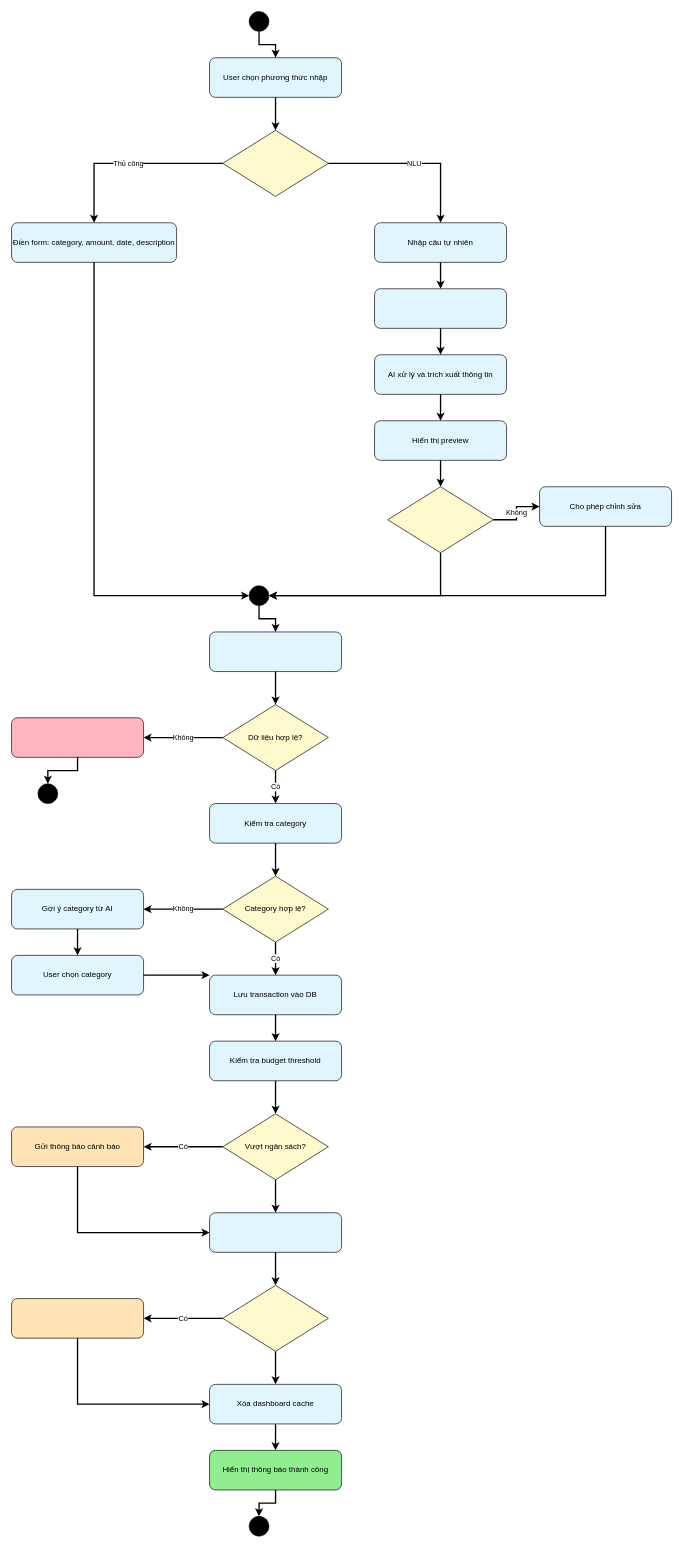
Image size: 683x1548. Some labels were removed from this diagram. The shapes that lost their labels are listed below. From the top down, each one's centre as x and y in pixels, then its label:
At pixel 275 163: "Phương thức?".
At pixel 440 308: "Gửi đến AI Service".
At pixel 440 519: "User xác nhận?".
At pixel 275 651: "Validate dữ liệu".
At pixel 77 737: "Hiển thị lỗi".
At pixel 275 1232: "Kiểm tra giao dịch lớn".
At pixel 77 1318: "Gửi thông báo giao dịch lớn".
At pixel 275 1318: "Amount > 1M VND?".
